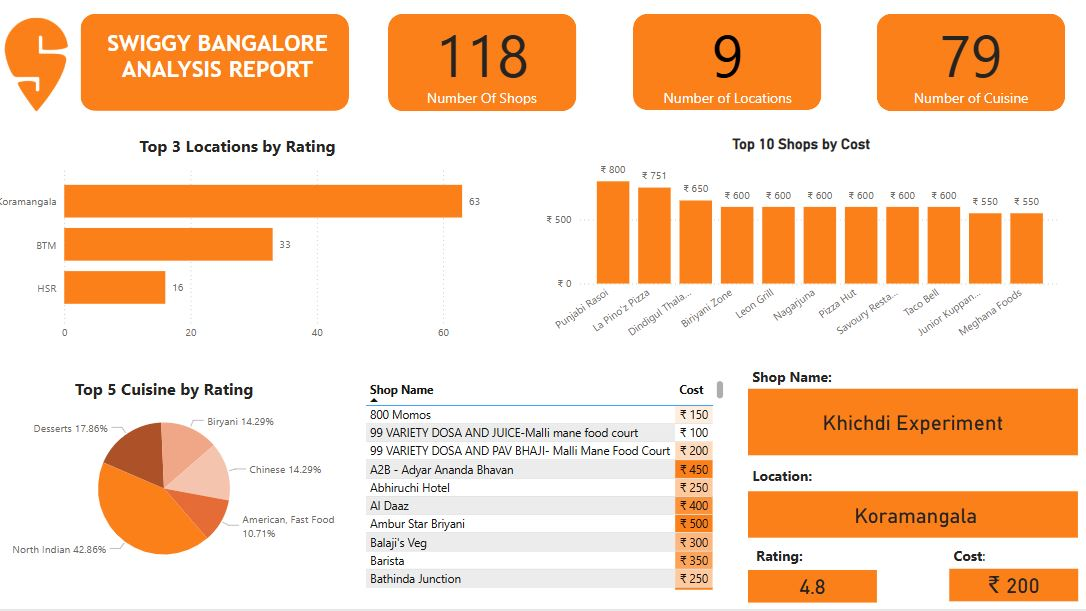

The dashboard page shown, as its layout file describes it:
{"tool":"powerbi","page":{"name":"Dashboard","canvas":[1280,720],"ordinal":0},"visuals":[{"type":"shape","box":[750.3,33.2,217.5,111.2],"z":0},{"type":"shape","box":[1031.2,32.5,217.5,112.5],"z":1000},{"type":"shape","box":[467.2,32.5,217.5,112.5],"z":2000},{"type":"shape","box":[112.7,32.7,310,112.2],"z":3000},{"type":"image","box":[0,32.5,122.5,117.5],"z":4000},{"type":"textbox","box":[122.2,46.7,296,127],"z":5000},{"type":"card","fields":{"Values":["Table.Number Of Shops"]},"box":[489.1,33.3,173.8,110],"z":6000},{"type":"card","fields":{"Values":["Table.Number of Locations"]},"box":[764.1,33.9,190,110],"z":7000},{"type":"card","fields":{"Values":["Table.Number of Dishes"]},"box":[1051.2,33.3,177.5,110],"z":8000},{"type":"barChart","title":"Top 3 Locations by Rating","fields":{"Category":["Swiggy Bangalore Outlet Details.Location"],"Y":["CountNonNull(Swiggy Bangalore Outlet Details.Rating)"]},"box":[0,173.5,587.4,246],"z":9000},{"type":"pieChart","title":"Top 5 Cuisine by Rating","fields":{"Category":["Swiggy Bangalore Outlet Details.Cuisine"],"Y":["CountNonNull(Swiggy Bangalore Outlet Details.Cuisine)"]},"box":[0,453.7,418.1,231.8],"z":10000},{"type":"columnChart","title":"Top 10 Shops by Cost","fields":{"Y":["Sum(Swiggy Bangalore Outlet Details.Cost_for_Two)"],"Category":["Swiggy Bangalore Outlet Details.Shop_Name"]},"box":[640,173.8,607.6,245.7],"z":11000},{"type":"tableEx","fields":{"Values":["Swiggy Bangalore Outlet Details.Shop_Name","Sum(Swiggy Bangalore Outlet Details.Cost_for_Two)"]},"box":[435.1,451.8,424.3,251.7],"z":12000},{"type":"card","fields":{"Values":["Min(Swiggy Bangalore Outlet Details.Shop_Name)"]},"box":[883.3,466.2,381.1,76.7],"z":13000},{"type":"card","fields":{"Values":["Max(Swiggy Bangalore Outlet Details.Rating)"]},"box":[883,675.2,148.6,37.5],"z":14000},{"type":"card","fields":{"Values":["Min(Swiggy Bangalore Outlet Details.Location)"]},"box":[883.3,583.7,381.1,53.9],"z":15000},{"type":"card","fields":{"Values":["Sum(Swiggy Bangalore Outlet Details.Cost_for_Two)"]},"box":[1115.3,673.8,148.6,37.5],"z":16000},{"type":"textbox","box":[883.3,435.7,326.2,31],"z":17000},{"type":"textbox","box":[883.3,550.1,124.6,37.2],"z":18000},{"type":"textbox","box":[887.9,641.5,73.1,36],"z":19000},{"type":"textbox","box":[1115.3,642,93.8,44.7],"z":20000}]}

Visuals, with their boxes in screenshot pixels (x1, y1, x2, y2), scaled from the page's 1280x720 canvas onto the 1086x611 screenshot:
shape: (637, 28, 821, 123)
shape: (875, 28, 1059, 123)
shape: (396, 28, 581, 123)
shape: (96, 28, 359, 123)
image: (0, 28, 104, 127)
textbox: (104, 40, 355, 147)
card - Table.Number Of Shops: (415, 28, 562, 122)
card - Table.Number of Locations: (648, 29, 809, 122)
card - Table.Number of Dishes: (892, 28, 1042, 122)
"Top 3 Locations by Rating" barChart: (0, 147, 498, 356)
"Top 5 Cuisine by Rating" pieChart: (0, 385, 355, 582)
"Top 10 Shops by Cost" columnChart: (543, 147, 1059, 356)
tableEx - Swiggy Bangalore Outlet Details.Shop_Name x Sum(Swiggy Bangalore Outlet Details.Cost_for_Two): (369, 383, 729, 597)
card - Min(Swiggy Bangalore Outlet Details.Shop_Name): (749, 396, 1073, 461)
card - Max(Swiggy Bangalore Outlet Details.Rating): (749, 573, 875, 605)
card - Min(Swiggy Bangalore Outlet Details.Location): (749, 495, 1073, 541)
card - Sum(Swiggy Bangalore Outlet Details.Cost_for_Two): (946, 572, 1072, 604)
textbox: (749, 370, 1026, 396)
textbox: (749, 467, 855, 498)
textbox: (753, 544, 815, 575)
textbox: (946, 545, 1026, 583)
